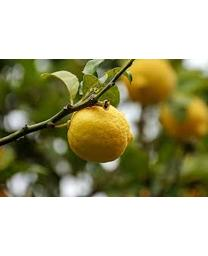lemon: (70, 103, 133, 163)
